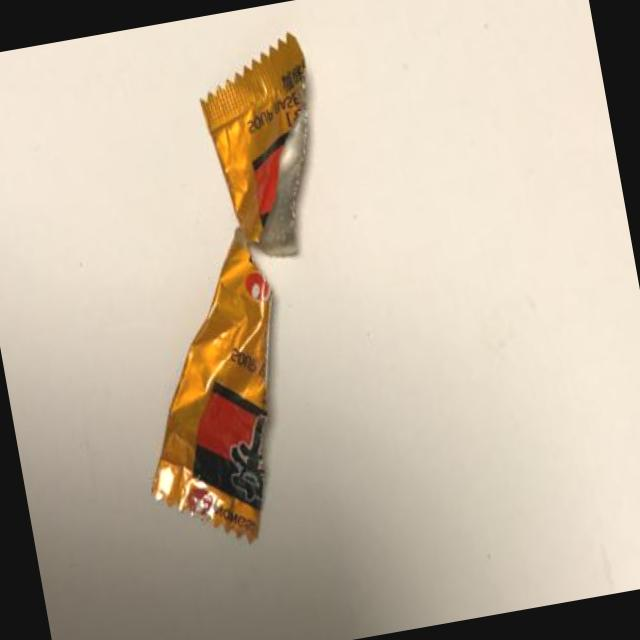bao_bi_thuc_pham: (150, 33, 311, 545)
